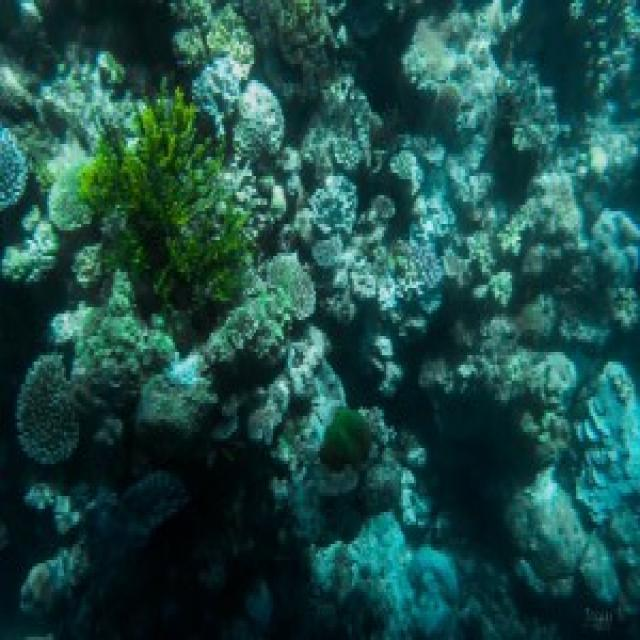Bleached: (370, 211, 451, 335), (228, 72, 294, 167), (1, 120, 27, 219)
Healthy: (10, 348, 94, 477), (499, 156, 588, 270), (513, 475, 585, 604), (311, 403, 396, 498), (94, 280, 175, 376)
